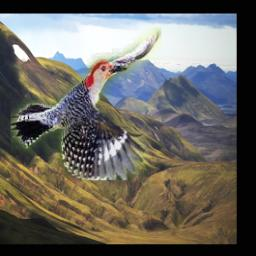Woodpecker: (11, 27, 161, 180)
